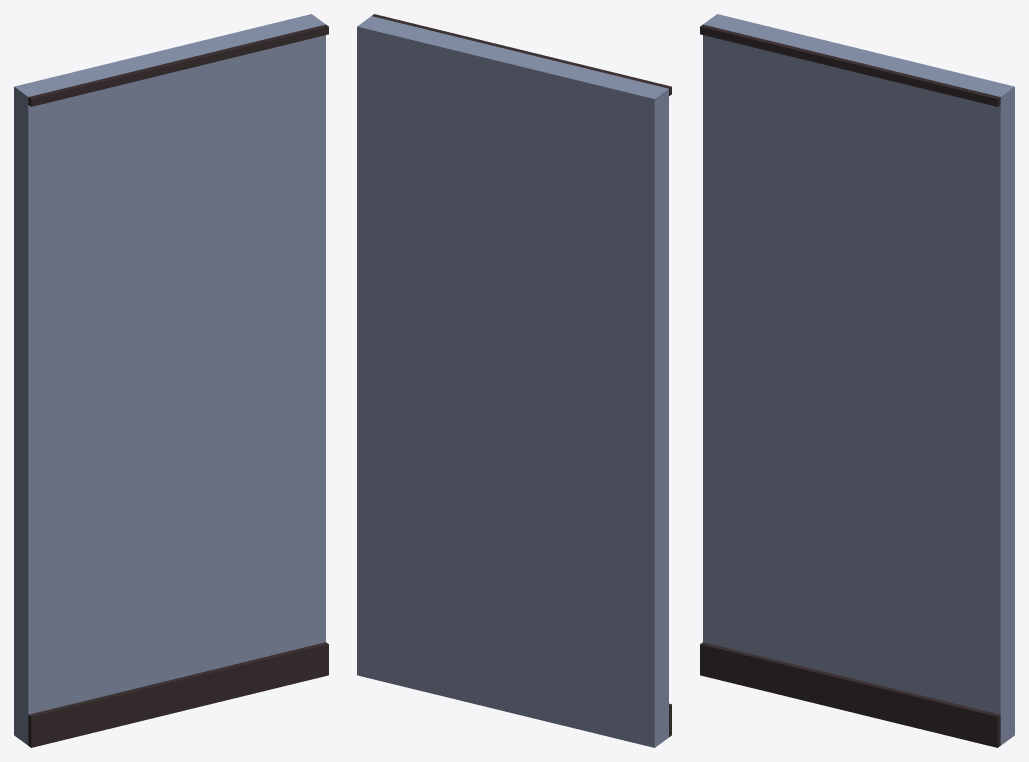
Rendered from wall_section.fbx.
3 renders of one model, left to right at view 1: azimuth 30°, elevation 25°; view 2: azimuth 150°, elevation 25°; view 3: azimuth 330°, elevation 25°, orthographic.
Parts seen in each view (by area): view 1: wall_section; view 2: wall_section; view 3: wall_section.
Part boxes in pixels (left/top/right/bottom): wall_section: left=14, top=14, right=328, bottom=747; wall_section: left=357, top=14, right=671, bottom=747; wall_section: left=700, top=14, right=1014, bottom=747.
Bounding box in the file's own units: 1.2 × 2.5 × 0.12.
